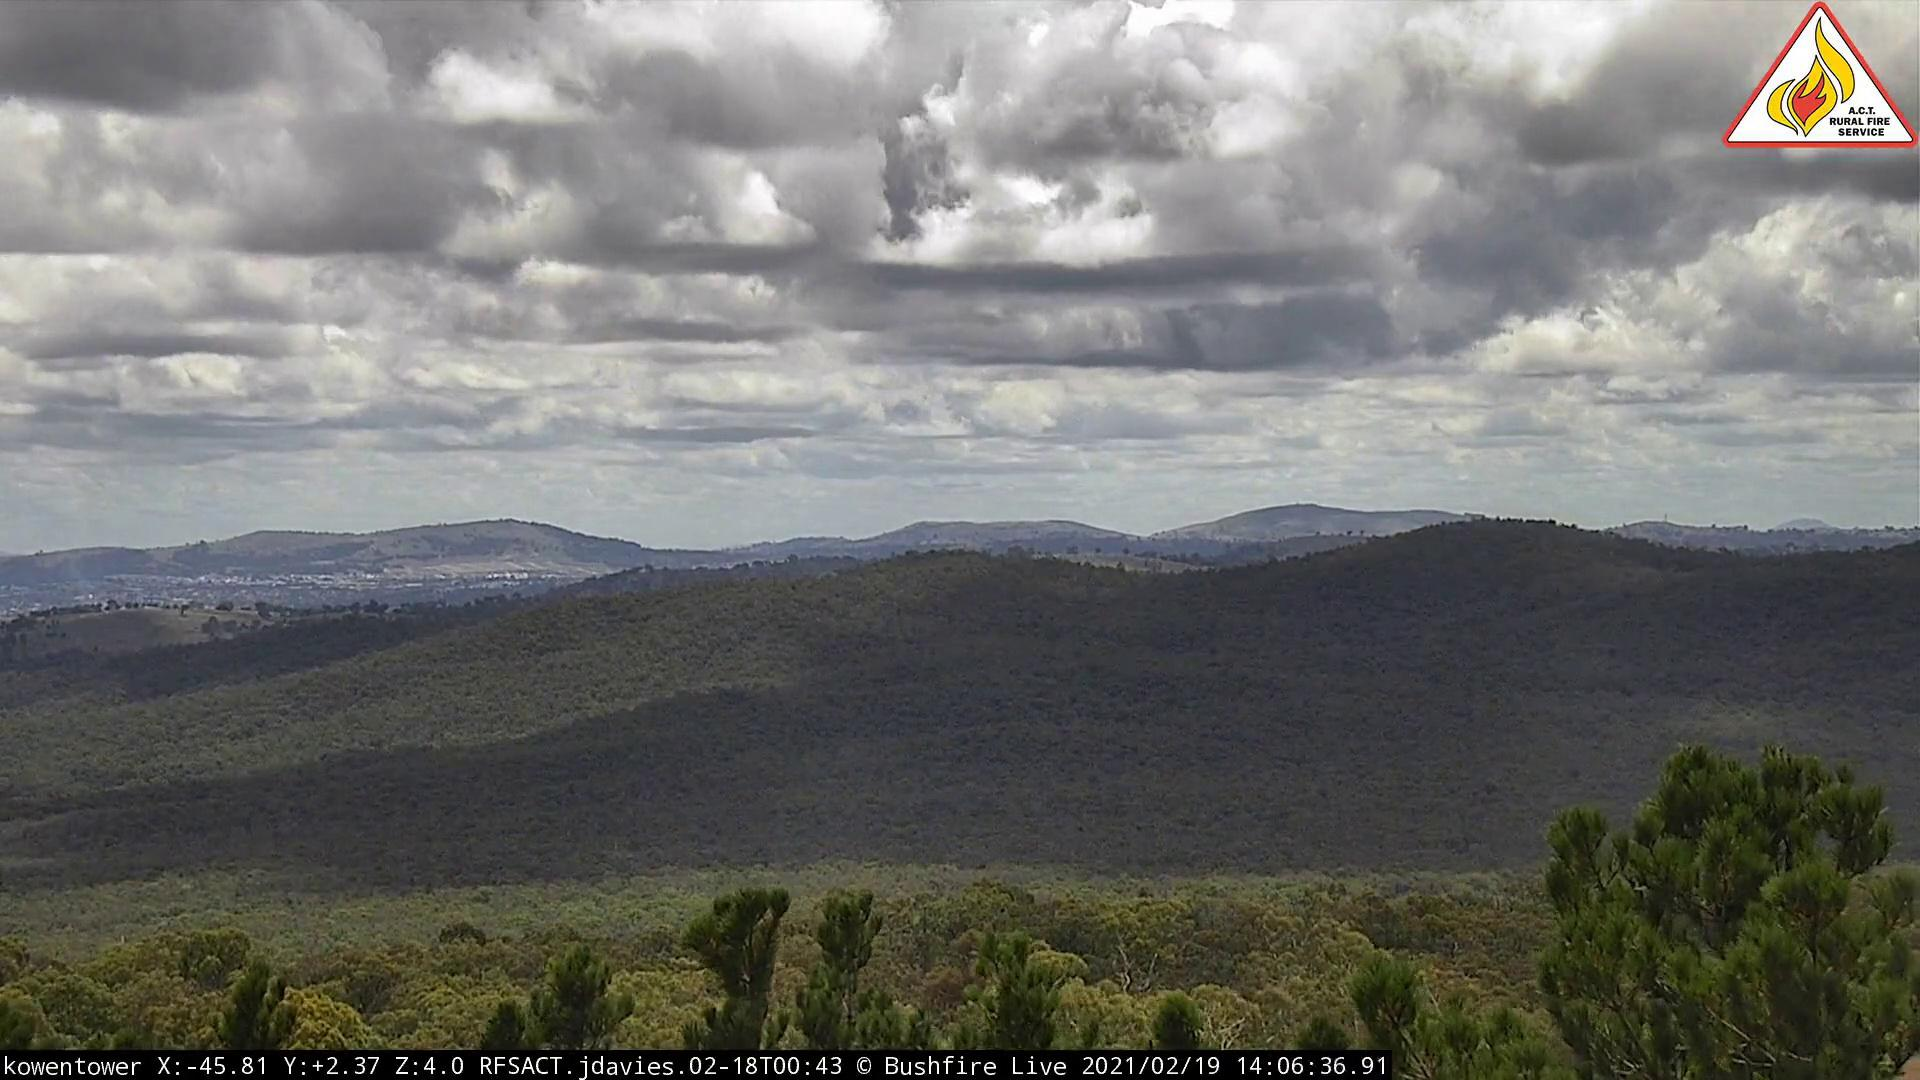Smoke: (99, 585, 121, 620)
